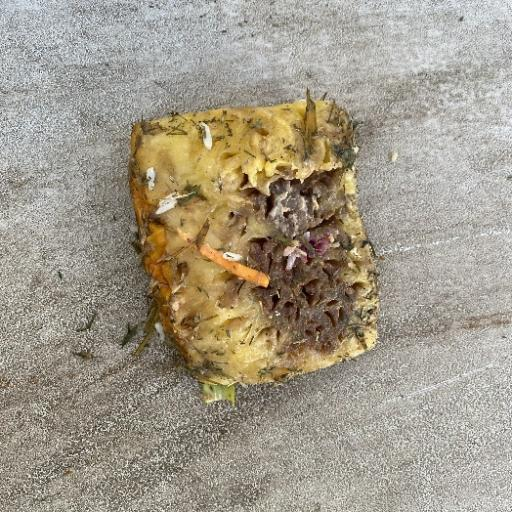Waste: (126, 88, 381, 403)
